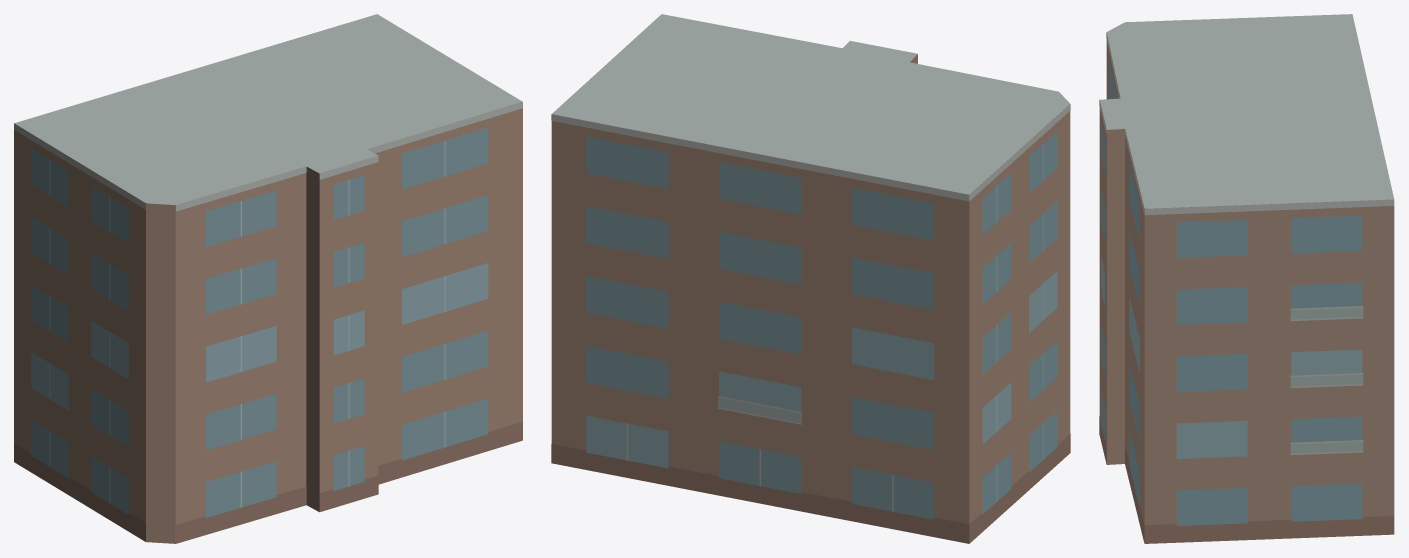
The model's file is survey-upis-32955028.glb.
3 views of the same model, side by side, from view 1: azimuth 30°, elevation 25°; view 2: azimuth 150°, elevation 25°; view 3: azimuth 270°, elevation 25° (orthographic). The views are drawn at different scales.
Visible parts, largest first — view 1: survey-upis-32955028.tmp; view 2: survey-upis-32955028.tmp; view 3: survey-upis-32955028.tmp.
Boxes of the visible parts, x1,y1,x2,y2 form: survey-upis-32955028.tmp: [14, 14, 522, 543]; survey-upis-32955028.tmp: [551, 14, 1070, 543]; survey-upis-32955028.tmp: [1099, 14, 1394, 543].
Bounding box in the file's own units: 15.85 × 12.7 × 10.13.
